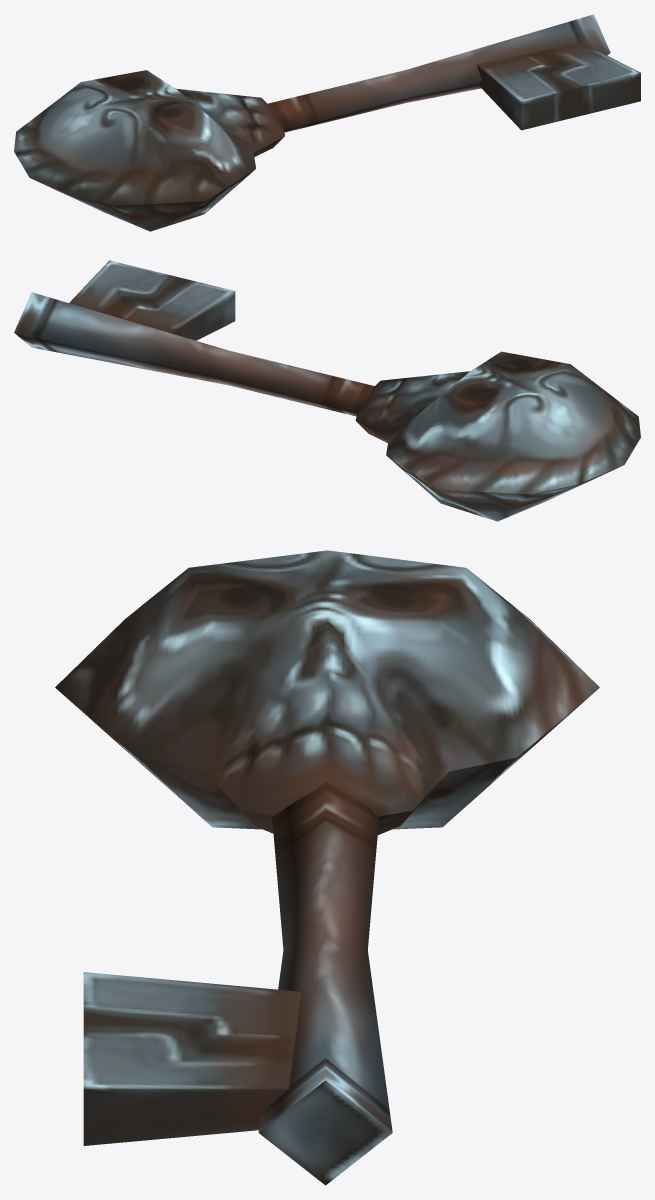
File: key1.fbx
The picture shows the model from 3 angles, top to bottom: view 1: azimuth 30°, elevation 25°; view 2: azimuth 150°, elevation 25°; view 3: azimuth 270°, elevation 25°; orthographic projection. The views are drawn at different scales.
Parts seen in each view (by area): view 1: key1; view 2: key1; view 3: key1.
Part boxes in pixels (x1=…): key1: x1=14, y1=14, x2=640, y2=231; key1: x1=14, y1=260, x2=640, y2=521; key1: x1=55, y1=550, x2=599, y2=1185.
Size of the model in its own units: 36.56 by 6.63 by 15.31.
